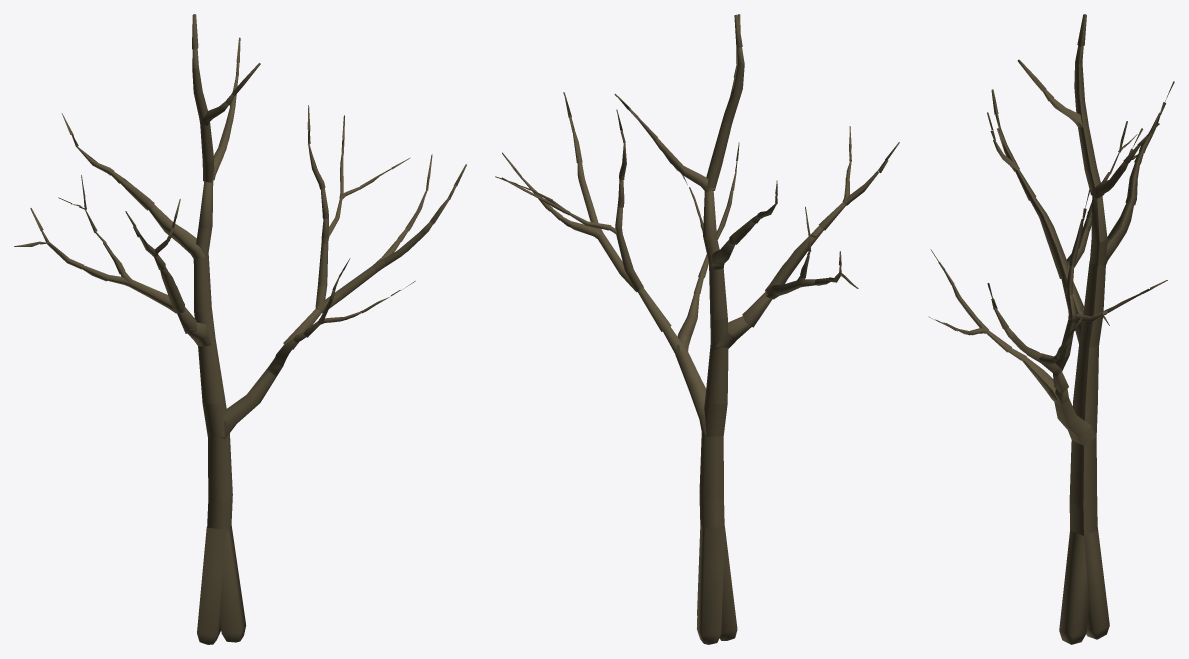
File: dead_tree7.FBX
3 renders of one model, left to right at view 1: azimuth 30°, elevation 25°; view 2: azimuth 150°, elevation 25°; view 3: azimuth 270°, elevation 25°, orthographic. The views are drawn at different scales.
Visible parts, largest first — view 1: Plum_Tre; view 2: Plum_Tre; view 3: Plum_Tre.
Part boxes in pixels (x1,y1,x2,y2): Plum_Tre: (14,14,466,644); Plum_Tre: (495,14,899,644); Plum_Tre: (928,14,1174,644).
Size of the model in its own units: 3.22 by 5.01 by 1.82.
